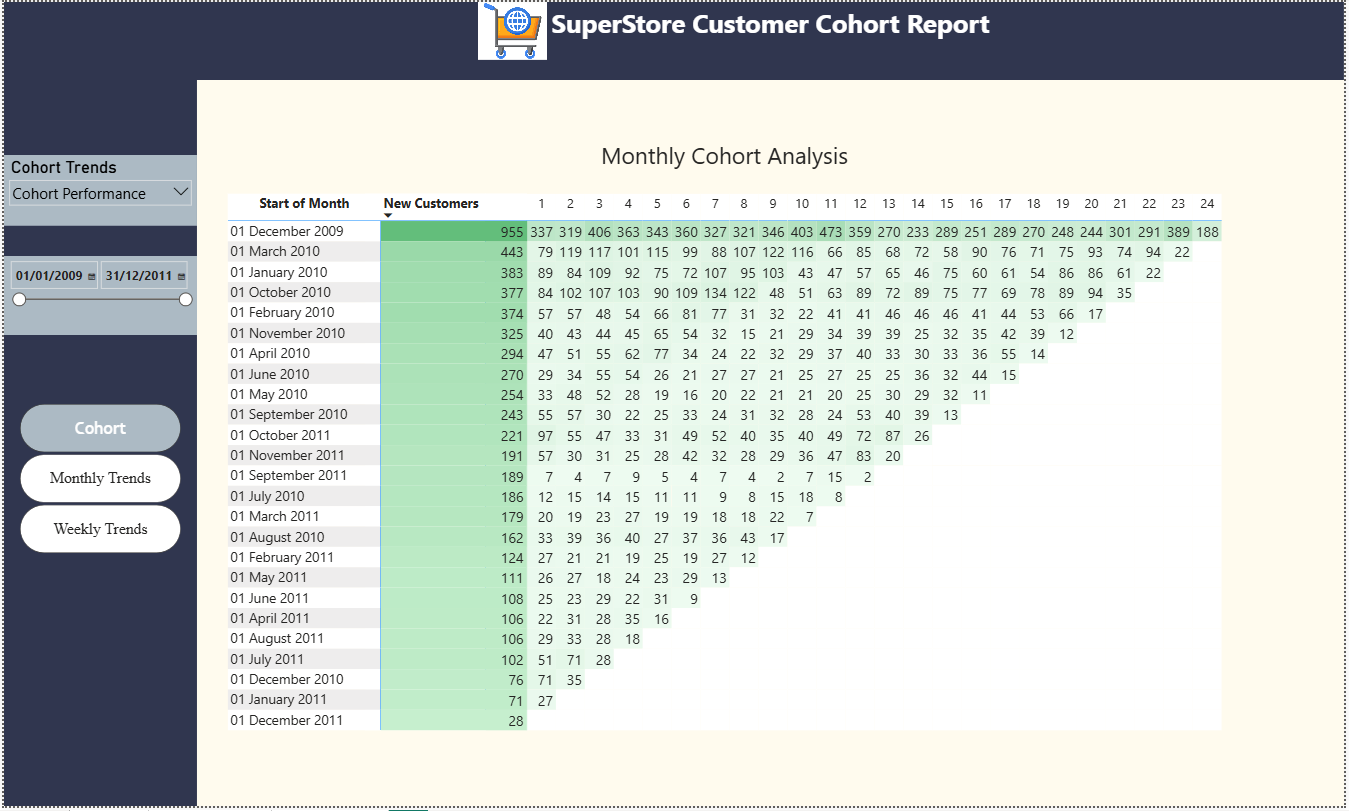

This screenshot's page, from the dashboard's own definition file:
{"tool":"powerbi","page":{"name":"Cohort ","canvas":[2500,1500],"ordinal":0},"visuals":[{"type":"shape","box":[0,0,360.1,1500],"z":0},{"type":"pivotTable","fields":{"Values":["_Measures.Churned Rate"],"Rows":["Dim Date.Start of Month"],"Columns":["FactSales.Month since first transaction"]},"box":[669.2,353.3,1830.2,1111.9],"z":0,"group":"g1"},{"type":"slicer","fields":{"Values":["Parameter 3.Parameter"]},"box":[0,285.4,360.1,132.5],"z":1000},{"type":"pivotTable","fields":{"Rows":["Dim Date.Start of Month"],"Values":["_Measures.New Customers"]},"box":[412.3,352.6,569,1111.9],"z":2000,"group":"g1"},{"type":"slicer","fields":{"Values":["Dim Date.Date"]},"box":[0,473.9,360.1,145.5],"z":2000},{"type":"group","id":"g1","title":"Group 1","box":[412.3,352.6,2087.1,1112.7],"z":3000},{"type":"textbox","box":[412.3,251.9,1863.8,100.7],"z":4000},{"type":"shape","box":[335.8,0,2164.2,145.5],"z":5000},{"type":"textbox","box":[360.1,0,2139.9,123.1],"z":6000},{"type":"pageNavigator","box":[29.9,750,300.4,279.9],"z":7000},{"type":"actionButton","box":[884.3,0,128.7,108.2],"z":8000}]}

Visuals, with their boxes on the page's 2500x1500 design canvas (x1, y1, x2, y2). These are canvas units, not pixel positions in the 1349x811 screenshot, which may show the page scaled, cropped or inside an application window:
shape: <bbox>0, 0, 360, 1500</bbox>
pivotTable - _Measures.Churned Rate x Dim Date.Start of Month: <bbox>669, 353, 2499, 1465</bbox>
slicer - Parameter 3.Parameter: <bbox>0, 285, 360, 418</bbox>
pivotTable - Dim Date.Start of Month x _Measures.New Customers: <bbox>412, 353, 981, 1464</bbox>
slicer - Dim Date.Date: <bbox>0, 474, 360, 619</bbox>
"Group 1" group: <bbox>412, 353, 2499, 1465</bbox>
textbox: <bbox>412, 252, 2276, 353</bbox>
shape: <bbox>336, 0, 2500, 146</bbox>
textbox: <bbox>360, 0, 2500, 123</bbox>
pageNavigator: <bbox>30, 750, 330, 1030</bbox>
actionButton: <bbox>884, 0, 1013, 108</bbox>
